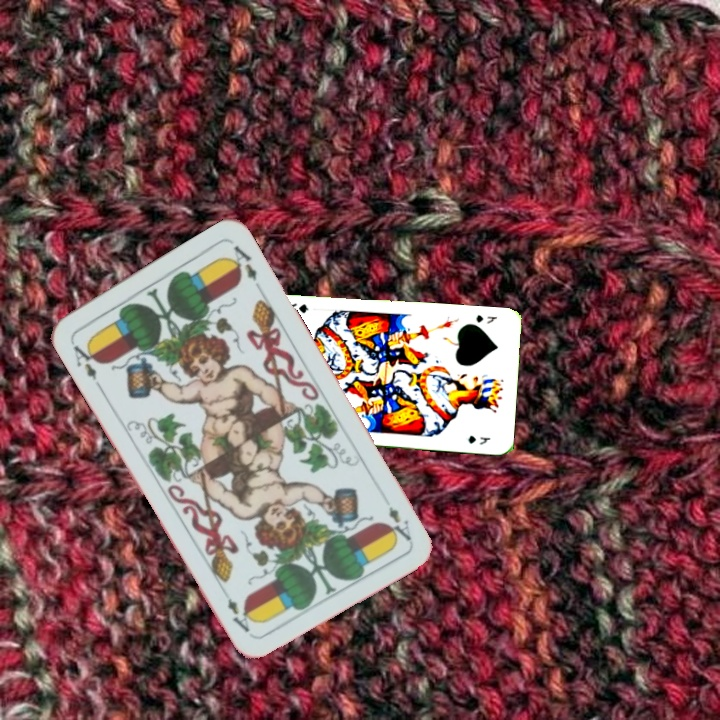EA: (67, 337, 104, 390), (382, 502, 415, 544)
GK: (472, 311, 500, 326)
